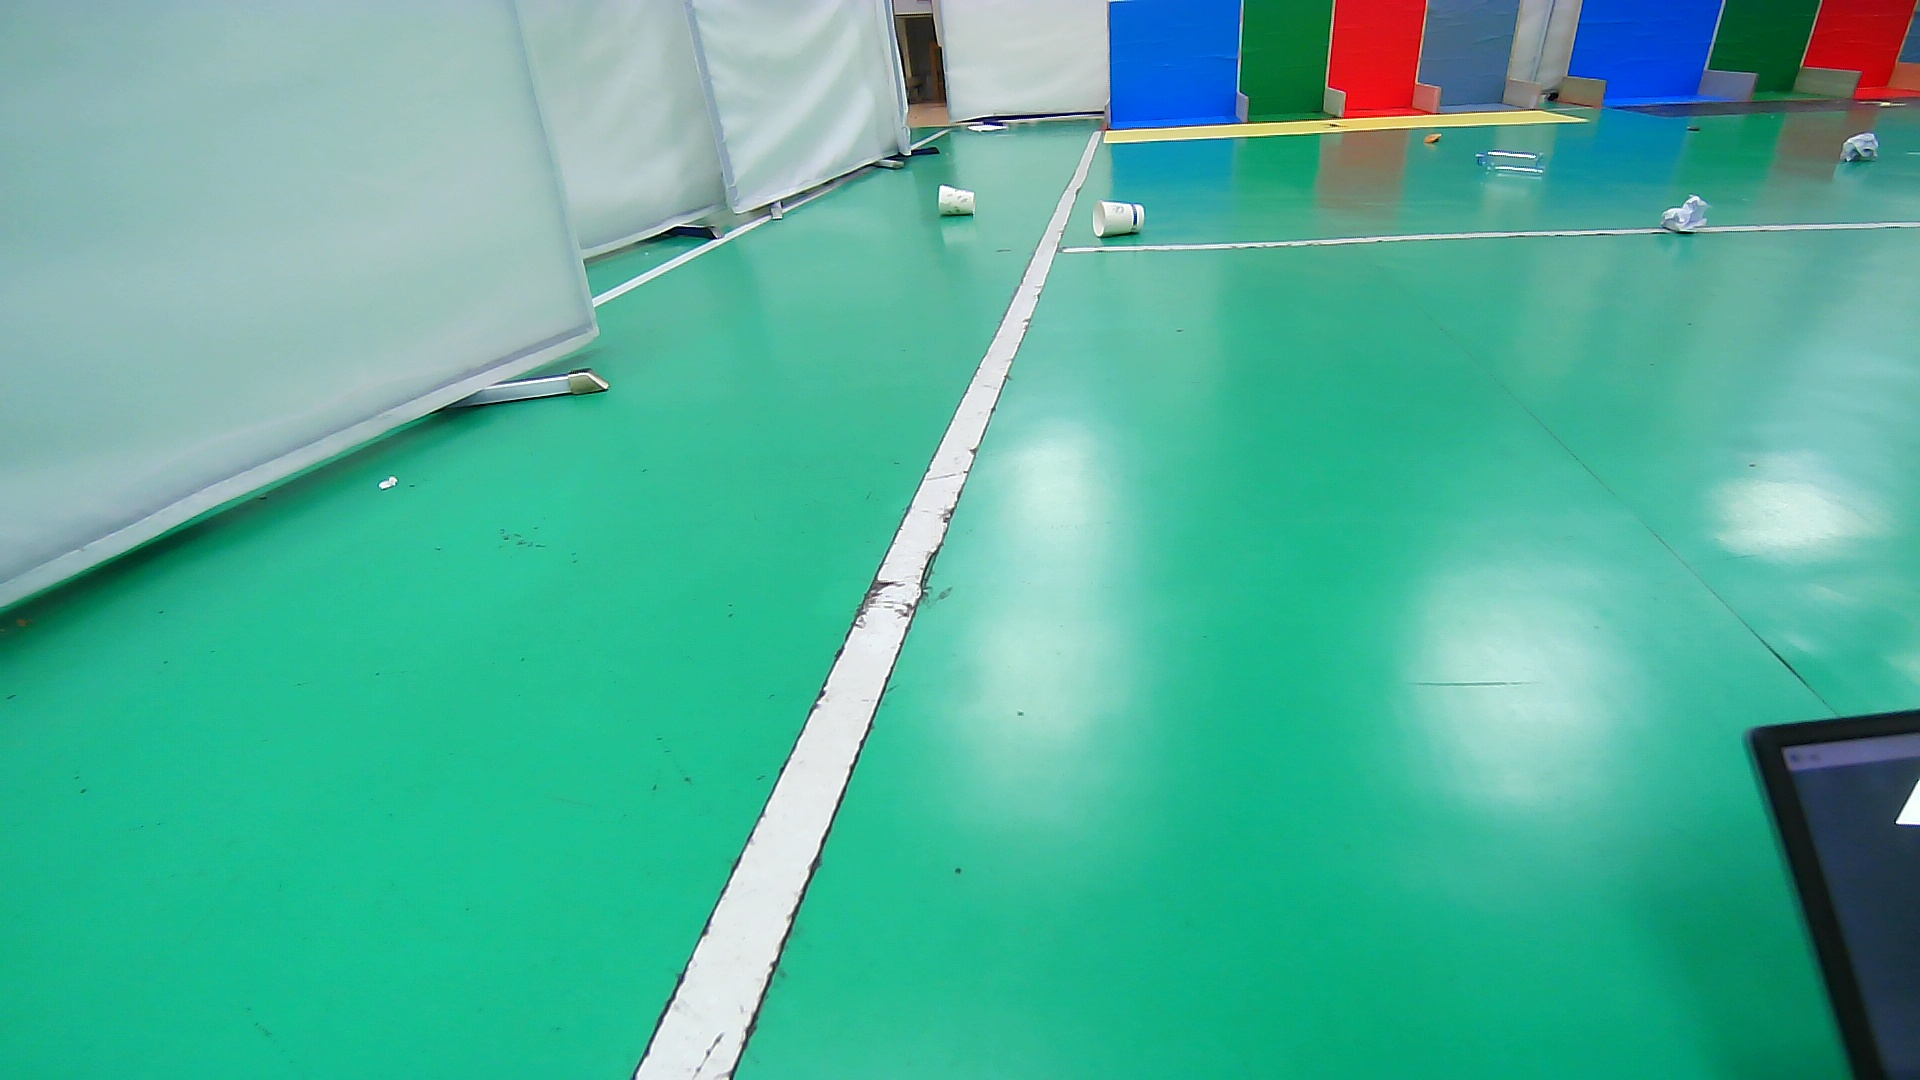battery: (1677, 117, 1709, 138)
bottle: (1473, 146, 1548, 179)
orangepeel: (1414, 125, 1452, 150)
papercup: (1091, 198, 1147, 240), (935, 183, 978, 220)
spitball: (1658, 191, 1714, 236), (1838, 131, 1880, 166)
